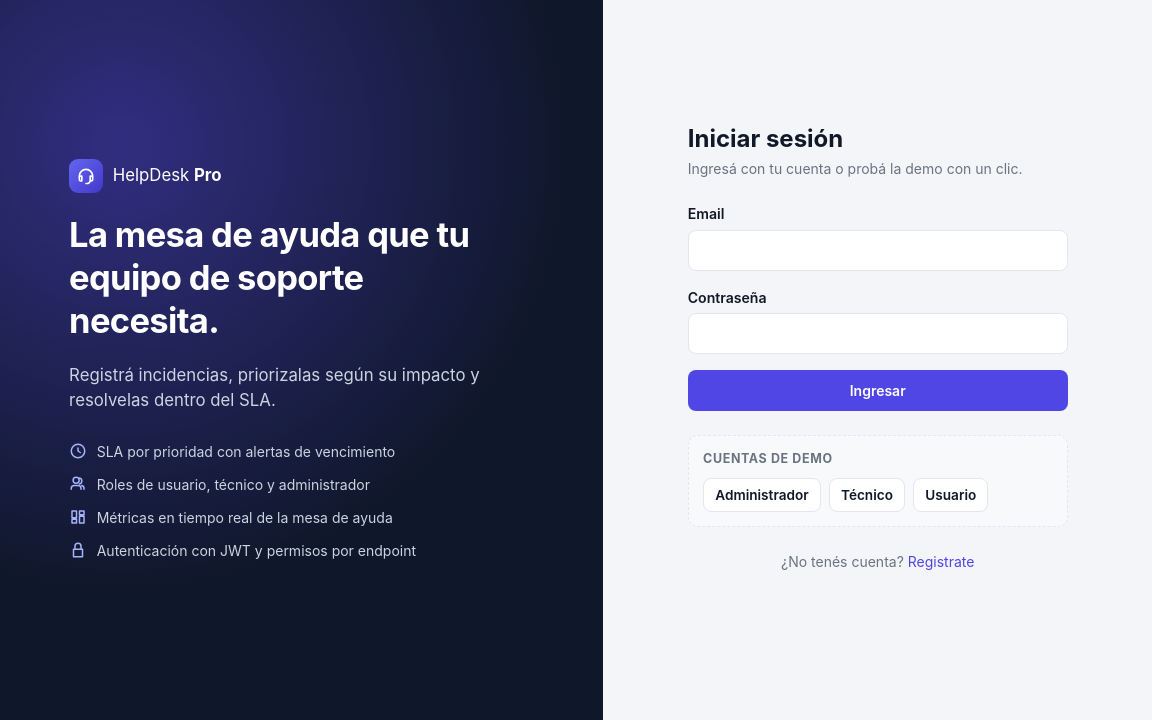
Scenario: LoginPage › muestra el error que devuelve la API
Type "alguien@test.dev" into the field labelled "Email" at {"x": 878, "y": 250}, box [688, 230, 1068, 271]
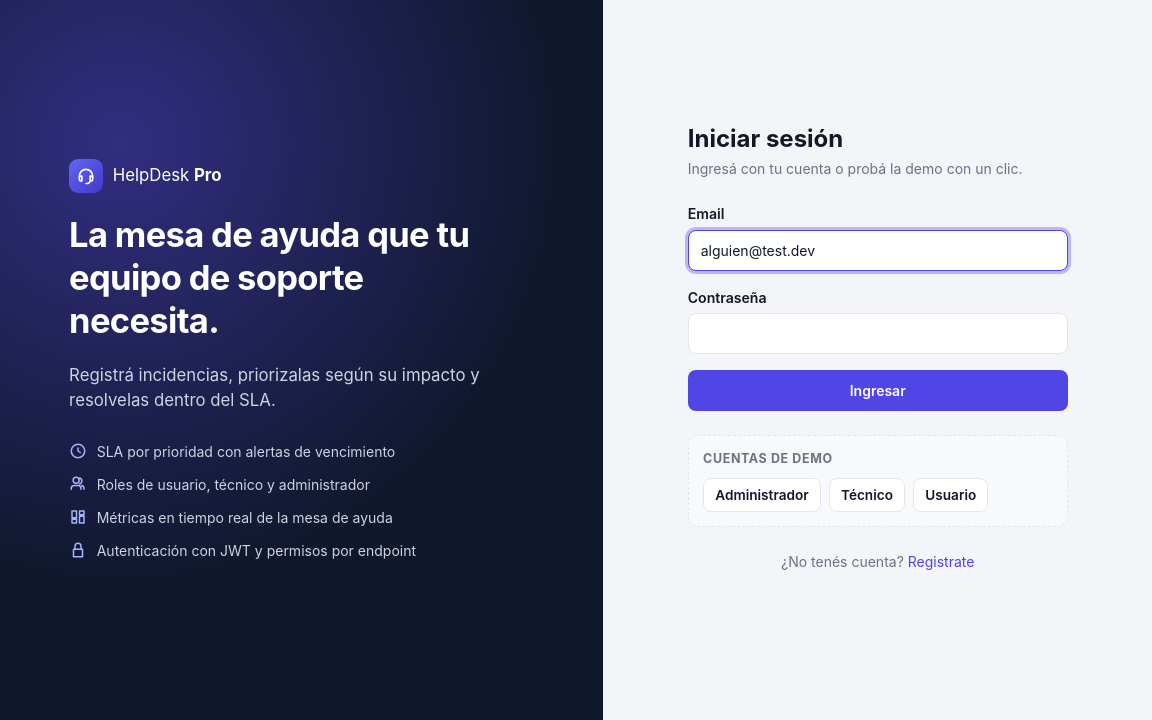
Type "incorrecta" into the password field labelled "Contraseña" at {"x": 878, "y": 334}, box [688, 314, 1068, 354]
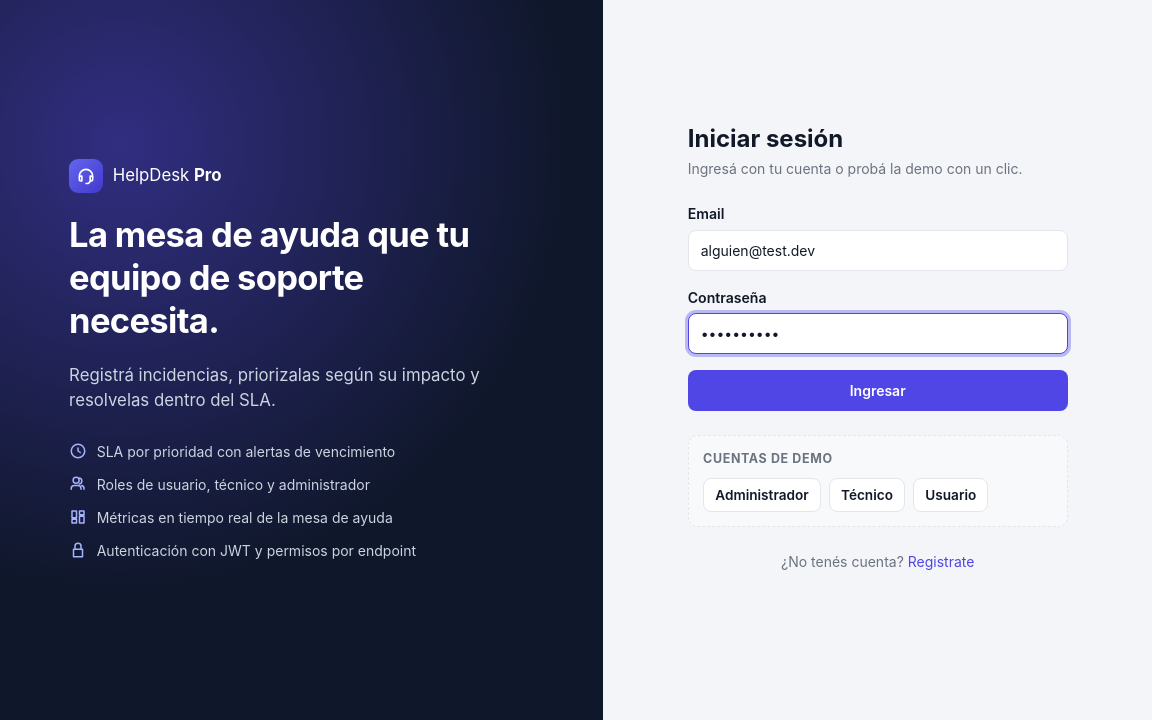
Click the button "Ingresar" at {"x": 878, "y": 390}, box [688, 370, 1068, 411]
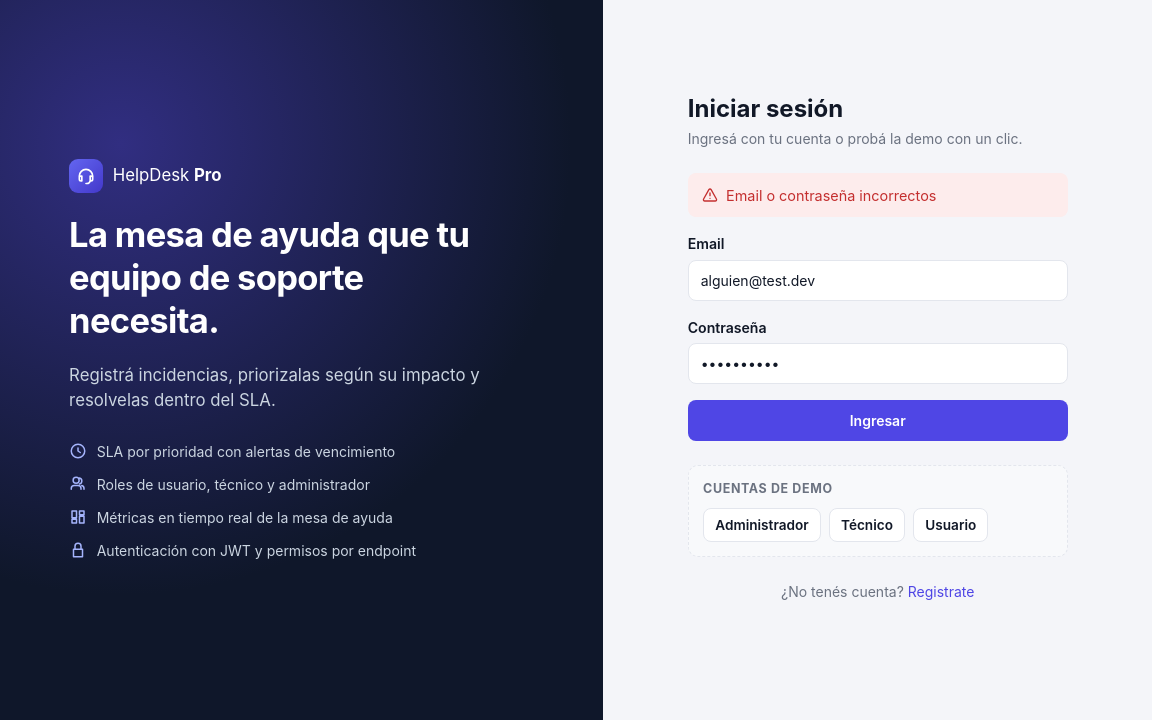
Check: the message reads "Email o contraseña incorrectos", box [726, 187, 936, 204]
